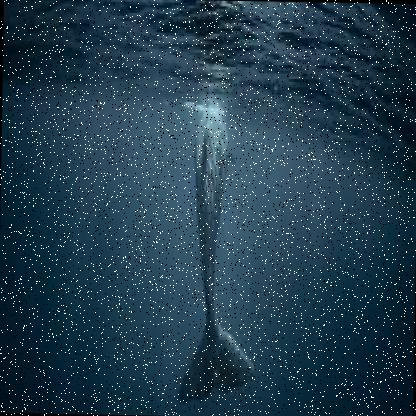blue_whale: (164, 70, 266, 414)
